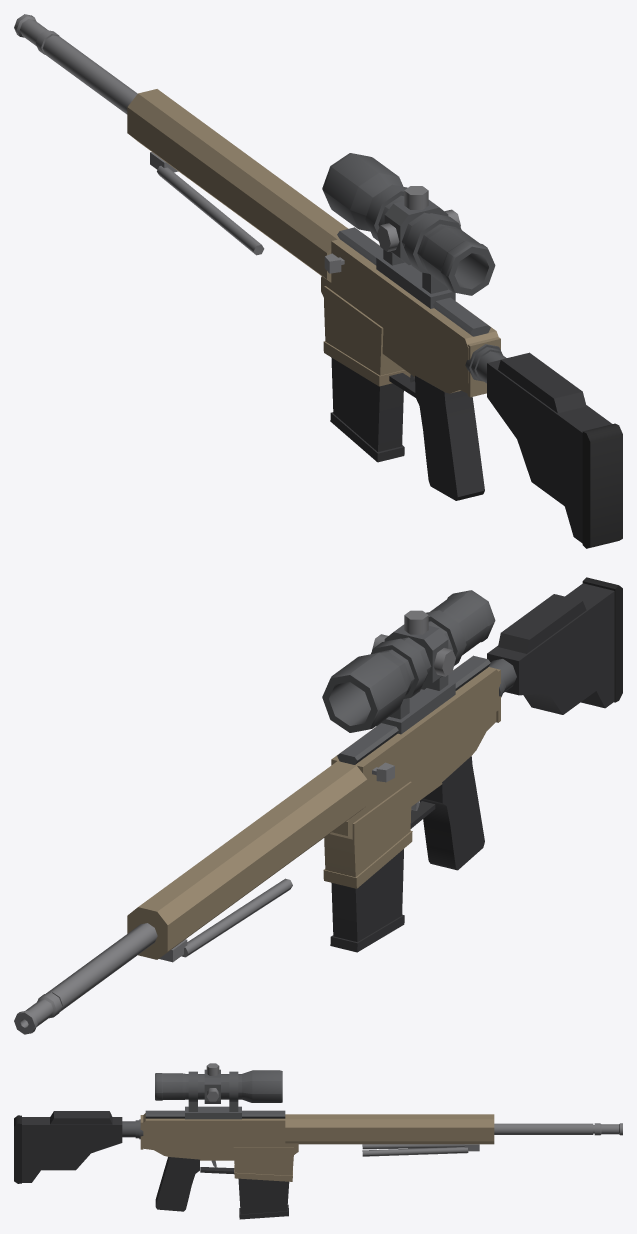
File: dmr_world.glb
The picture shows the model from 3 angles, top to bottom: view 1: azimuth 30°, elevation 25°; view 2: azimuth 150°, elevation 25°; view 3: azimuth 270°, elevation 25°; orthographic projection. The views are drawn at different scales.
Parts seen in each view (by area): view 1: body; view 2: body; view 3: body.
Part boxes in pixels (x1=…): body: x1=14, y1=14, x2=622, y2=548; body: x1=14, y1=577, x2=622, y2=1034; body: x1=14, y1=1063, x2=622, y2=1219.
Size of the model in its own units: 0.074 by 0.286 by 1.05.
